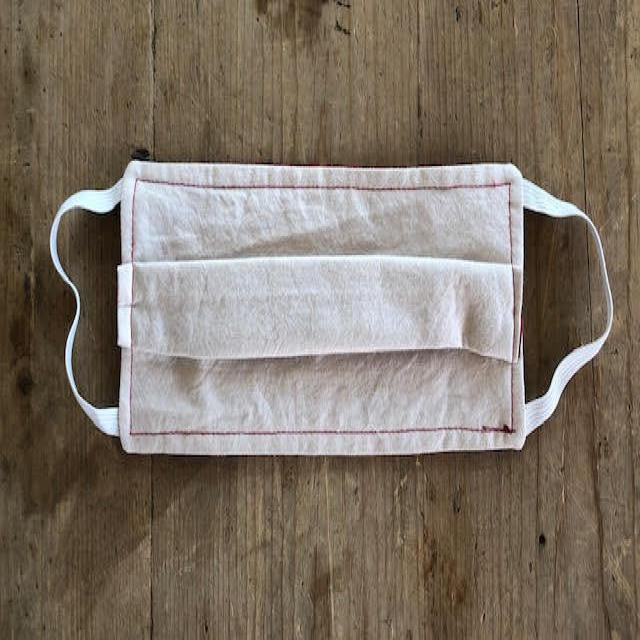face mask: (54, 157, 613, 452)
